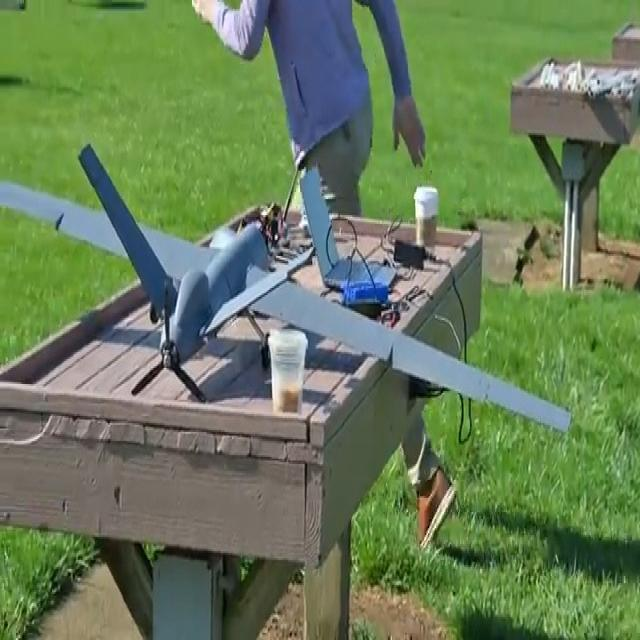iha: (0, 144, 569, 428)
